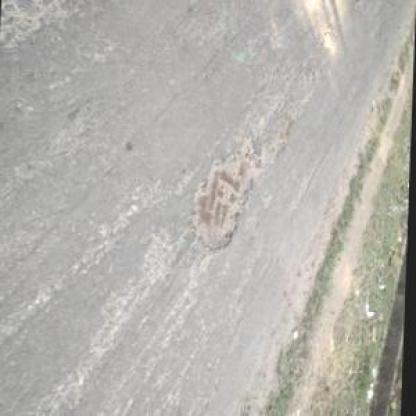pothole: (190, 140, 262, 252), (273, 116, 294, 152)
